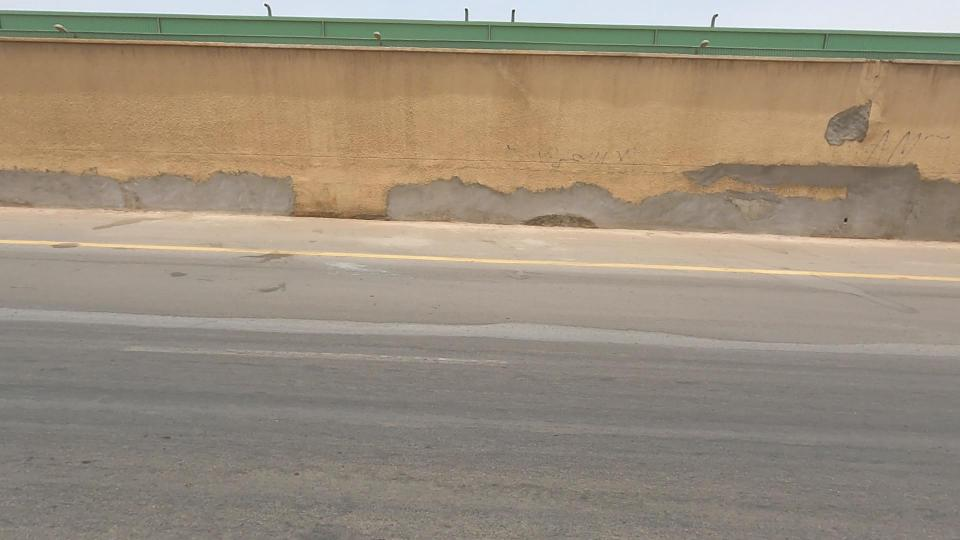UNKEPT_FACADE: (271, 122, 754, 265), (577, 109, 960, 287), (18, 120, 389, 266)
